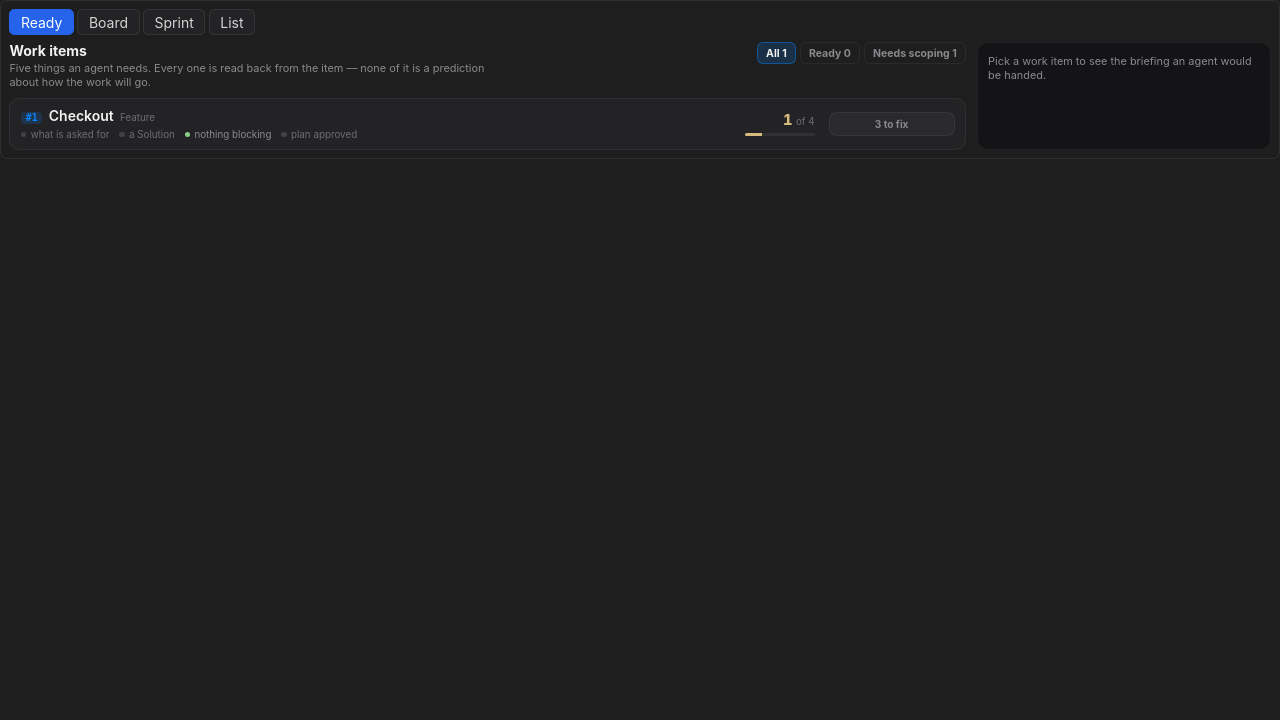
Test: WorkItemViews › shows the AI's plan in the briefing
Click the button with aria-label "Show the briefing for Checkout": point(81, 116) 21,107 -> 815,140
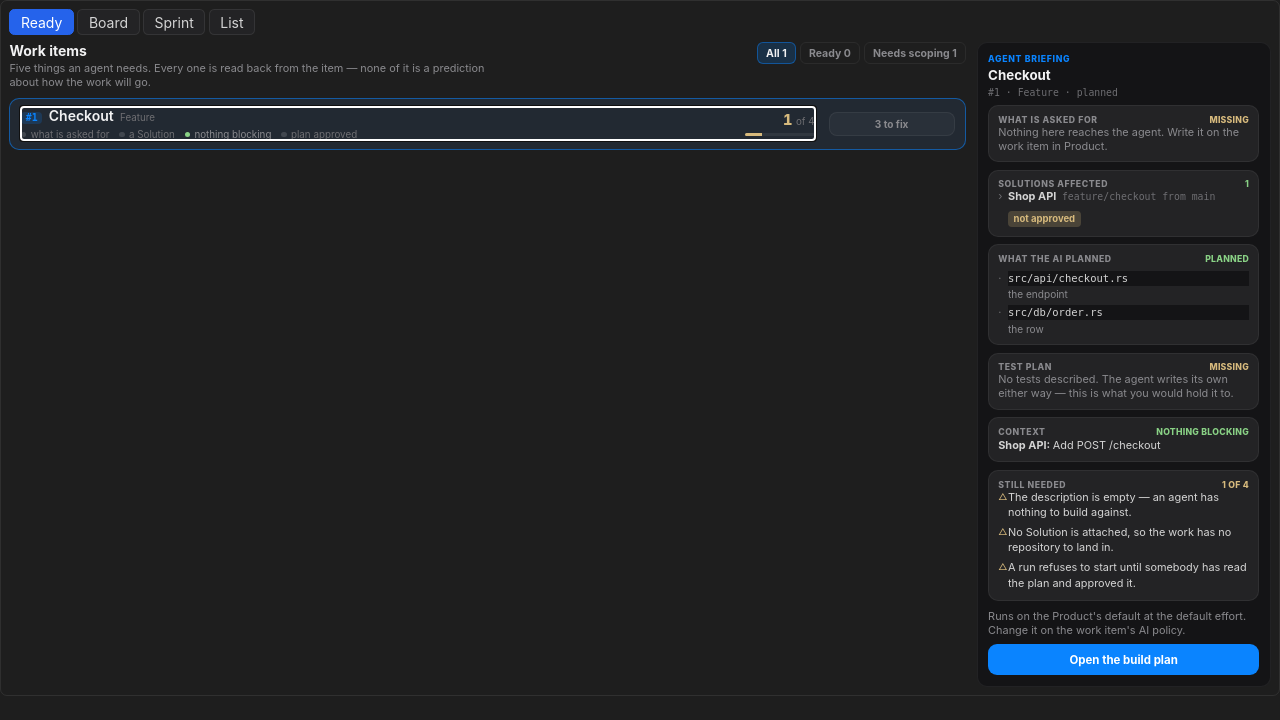
Now the text "src/api/checkout.rs" is shown, box 1008,271 -> 1249,286
Now the text "src/db/order.rs" is shown, box 1008,305 -> 1249,320
Now the element "Agent briefing" shows "the endpoint", box 1008,288 -> 1068,300
